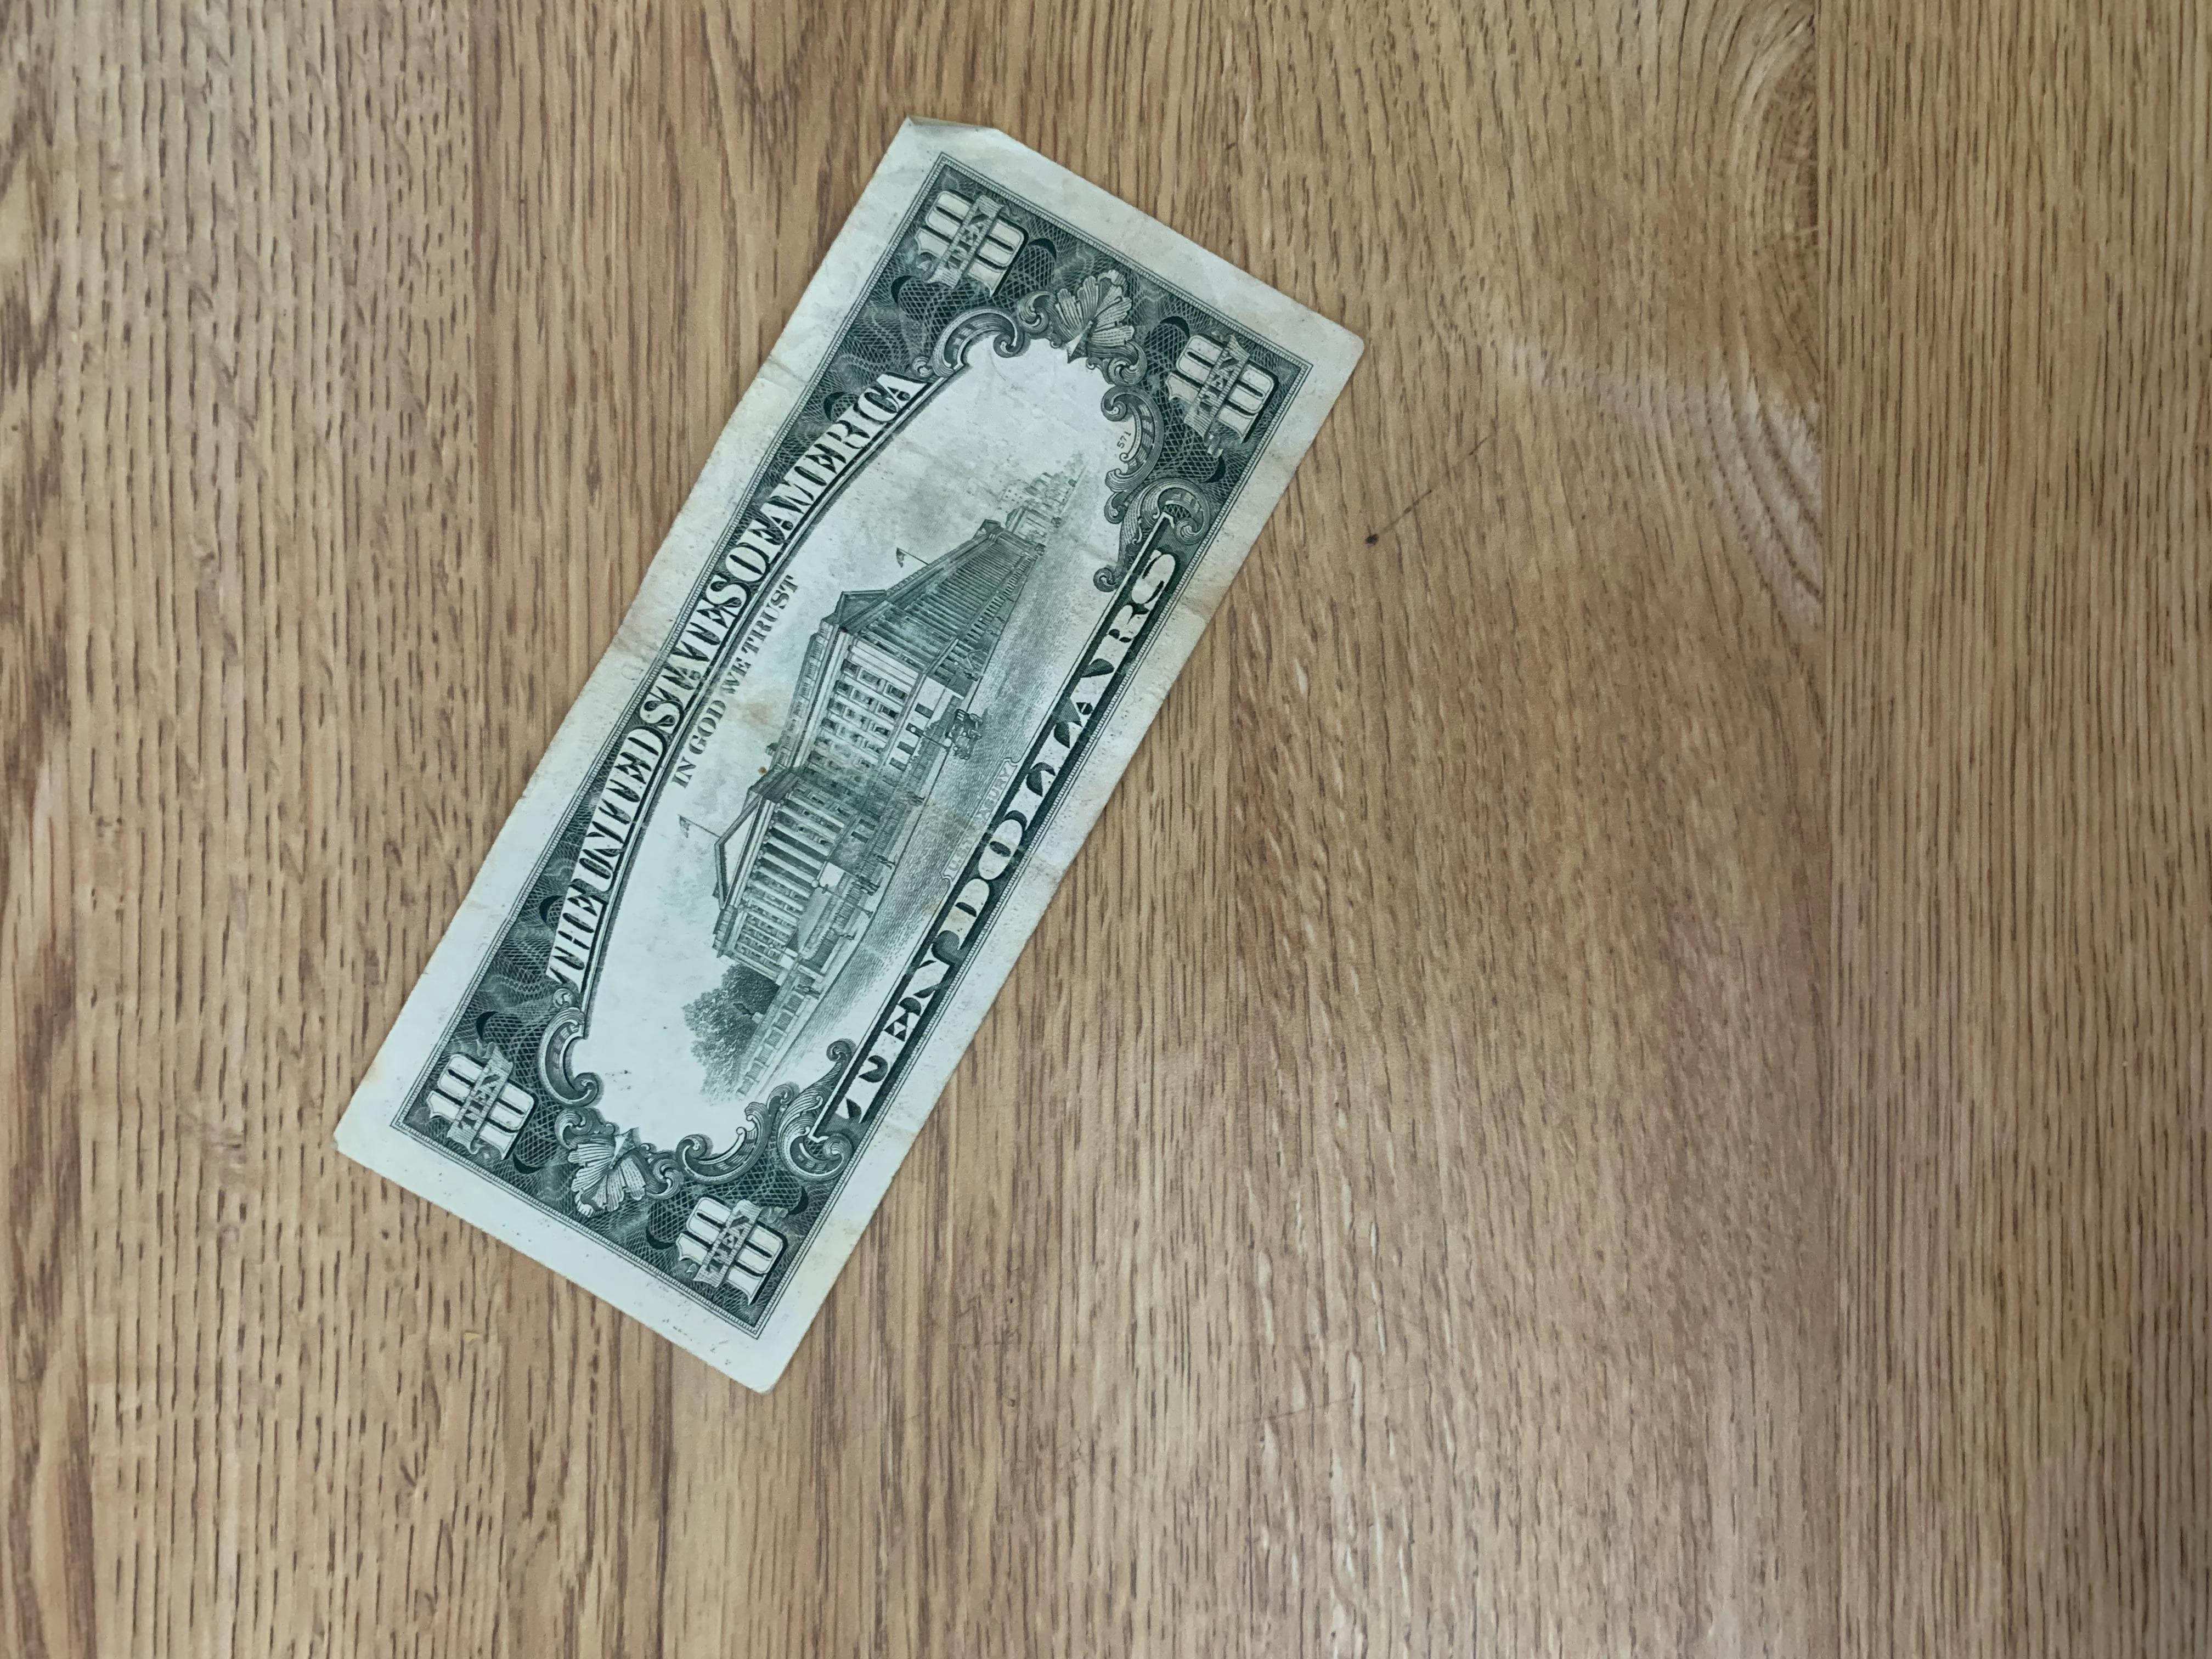TenBill: (327, 94, 1400, 1413)
